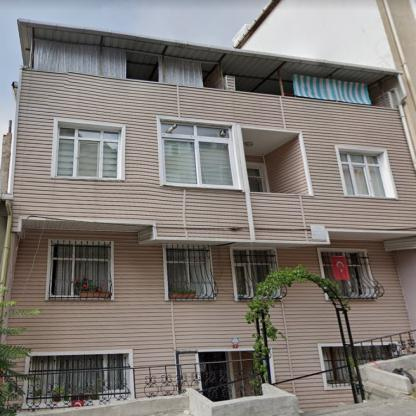door: (198, 352, 230, 401)
window: (27, 355, 125, 407), (162, 121, 235, 186), (53, 128, 116, 180), (51, 245, 111, 298), (340, 152, 388, 196), (323, 252, 368, 294), (233, 252, 272, 298), (168, 249, 204, 296), (322, 348, 348, 386), (361, 348, 391, 364), (248, 168, 264, 192)
